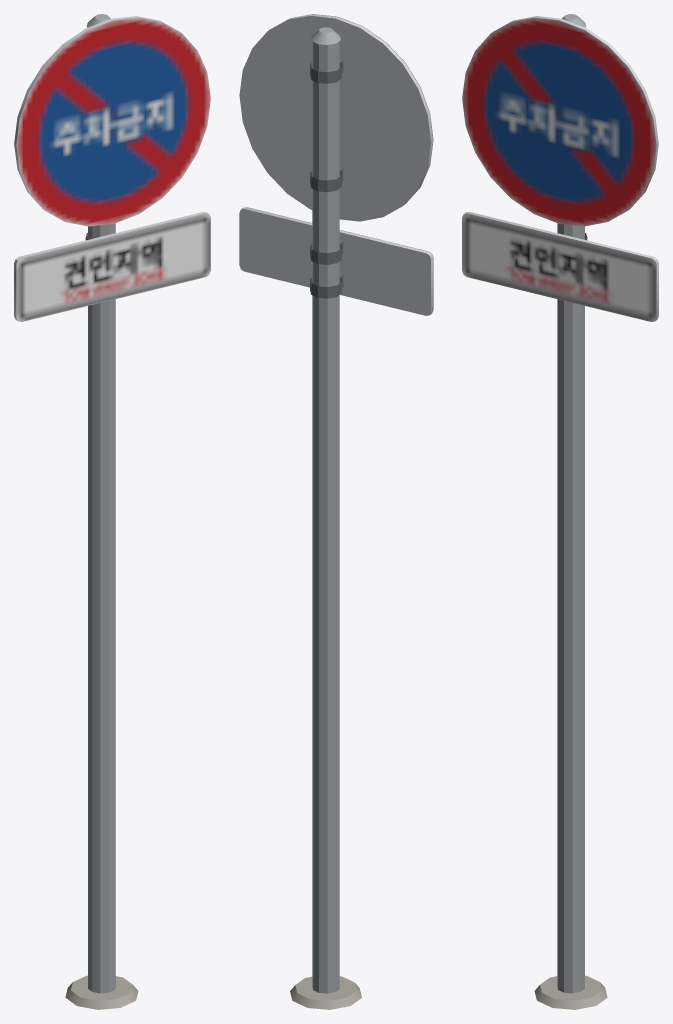
File: SC_Str_Sign_NoParking.gltf
The picture shows the model from 3 angles, left to right: view 1: azimuth 30°, elevation 25°; view 2: azimuth 150°, elevation 25°; view 3: azimuth 330°, elevation 25°; orthographic projection.
Visible parts, largest first — view 1: SC_Str_Sign_NoParking; view 2: SC_Str_Sign_NoParking; view 3: SC_Str_Sign_NoParking.
Part boxes in pixels (x1=…): SC_Str_Sign_NoParking: x1=14, y1=14, x2=210, y2=1009; SC_Str_Sign_NoParking: x1=239, y1=14, x2=433, y2=1009; SC_Str_Sign_NoParking: x1=462, y1=14, x2=658, y2=1009.
Bounding box in the file's own units: 0.6 × 2.9 × 0.2.
2 materials, 2 textured.
